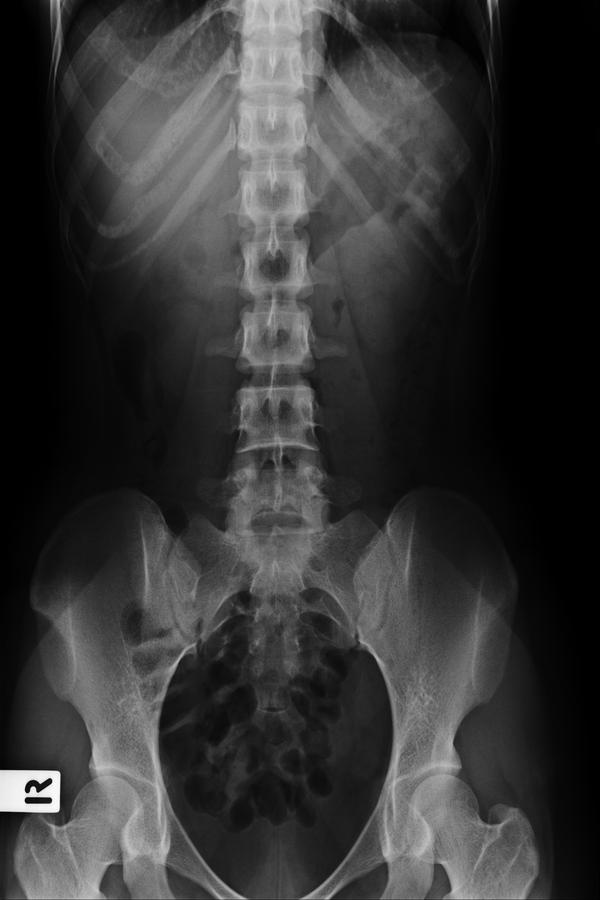not lumbar scoliosis: (225, 175, 324, 544)
